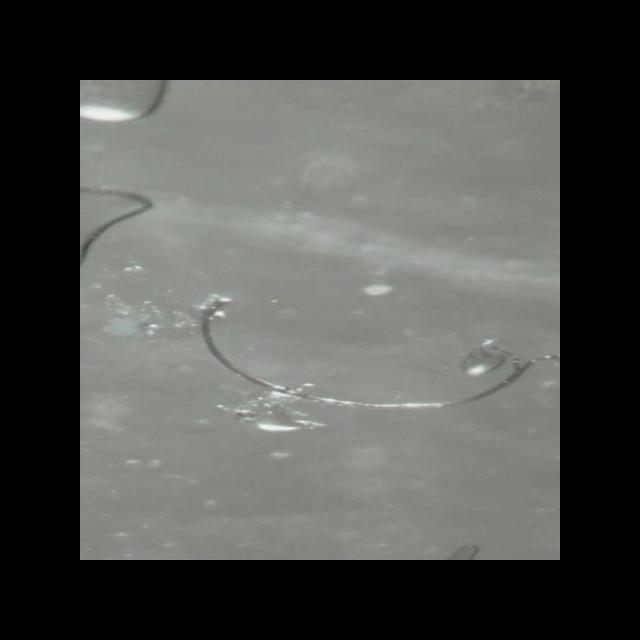Fibre: (188, 295, 560, 417)
